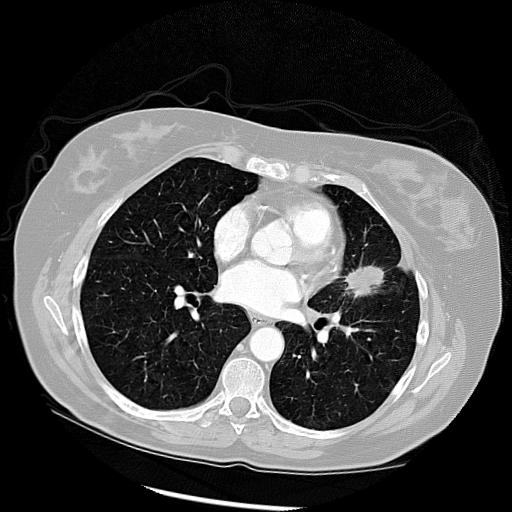nodule: (345, 259, 385, 299)
